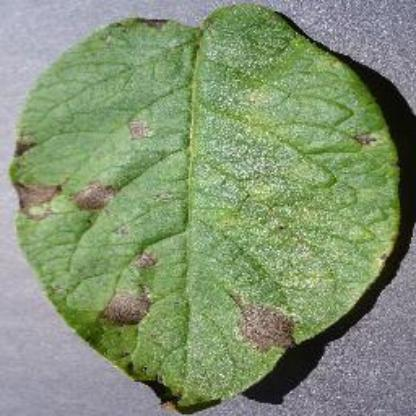Early-Blight: (12, 6, 406, 410)
